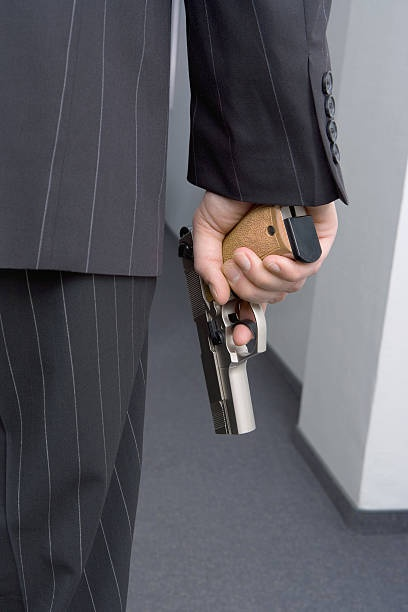pistol: (171, 197, 324, 438)
